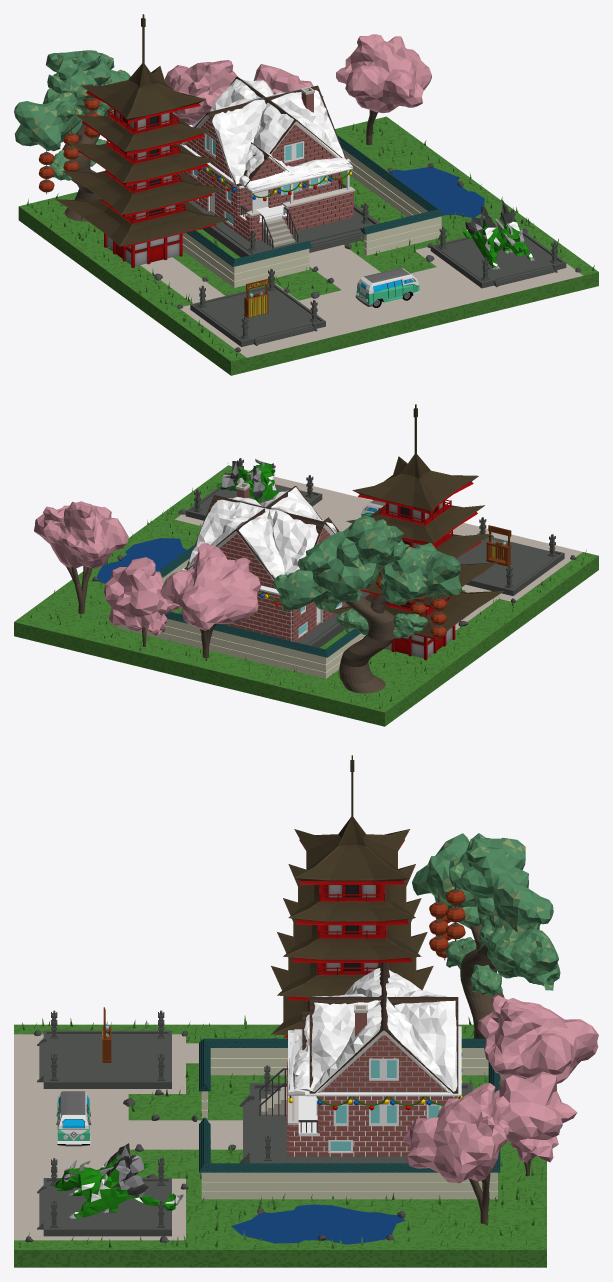
3 views of the same model, one above another, from view 1: azimuth 30°, elevation 25°; view 2: azimuth 150°, elevation 25°; view 3: azimuth 270°, elevation 25° (orthographic). The views are drawn at different scales.
Parts seen in each view (by area): view 1: Cube.005, Cube.1419, ANIMAL_DRAGON, VEHICLES_VAN, OBJRANDOM_LEMONADE_STAND; view 2: Cube.005, Cube.1419, ANIMAL_DRAGON, OBJRANDOM_LEMONADE_STAND; view 3: Cube.005, Cube.1419, ANIMAL_DRAGON, VEHICLES_VAN.
Part boxes in pixels (<box>): Cube.005: <box>14,14,598,375</box>; Cube.1419: <box>179,76,355,248</box>; ANIMAL_DRAGON: <box>464,201,536,269</box>; VEHICLES_VAN: <box>355,268,420,307</box>; OBJRANDOM_LEMONADE_STAND: <box>244,278,268,317</box>; Cube.005: <box>14,404,598,726</box>; Cube.1419: <box>181,482,347,642</box>; ANIMAL_DRAGON: <box>216,459,279,503</box>; OBJRANDOM_LEMONADE_STAND: <box>486,525,511,566</box>; Cube.005: <box>14,755,598,1267</box>; Cube.1419: <box>259,961,462,1156</box>; ANIMAL_DRAGON: <box>54,1143,183,1218</box>; VEHICLES_VAN: <box>56,1091,91,1146</box>.
Size of the model in its own units: 4528 by 2690 by 4389.
Materials: 52 (5 with a texture image).
